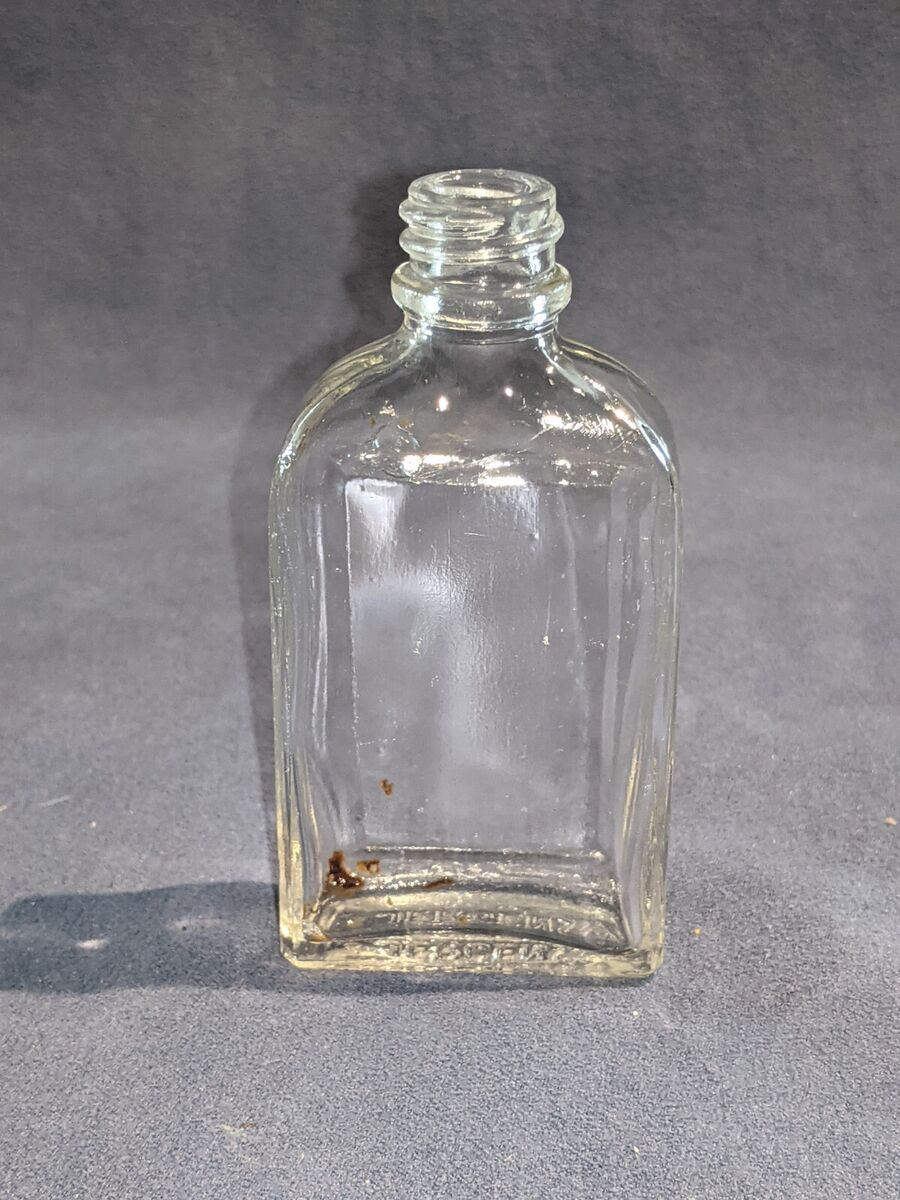glass_bottle: (253, 142, 714, 1018)
